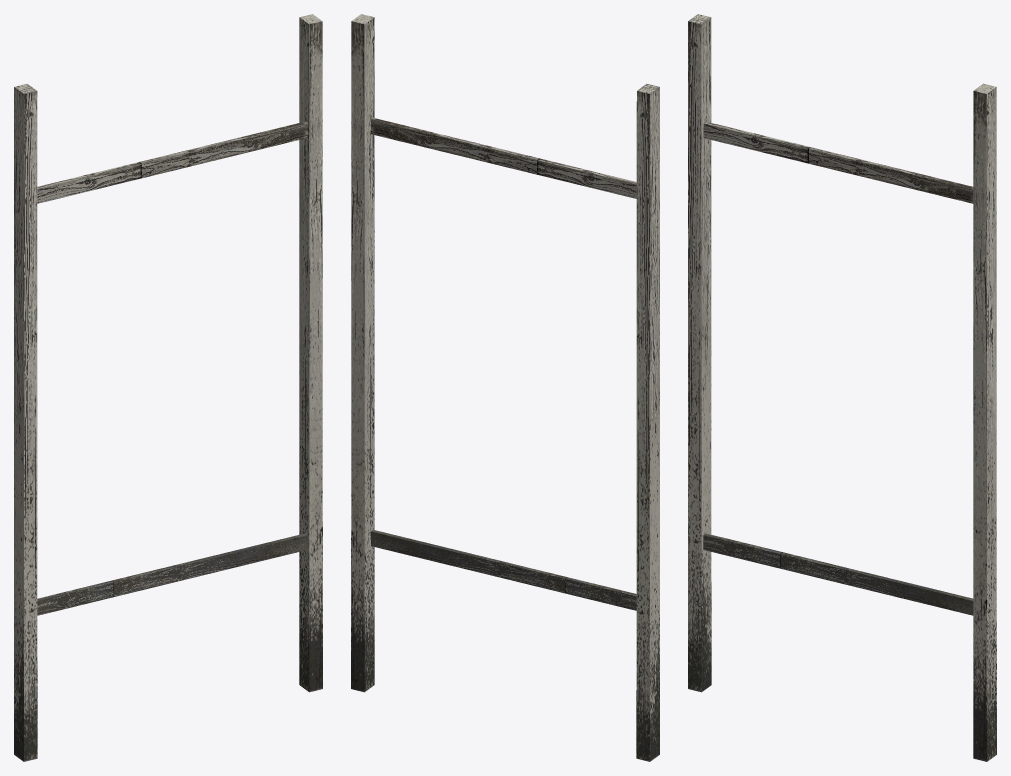
The model's file is wood_fence02a_board01a.glb.
3 renders of one model, left to right at view 1: azimuth 30°, elevation 25°; view 2: azimuth 150°, elevation 25°; view 3: azimuth 330°, elevation 25°, orthographic.
Parts seen in each view (by area): view 1: wood_fence02a_board01a; view 2: wood_fence02a_board01a; view 3: wood_fence02a_board01a.
Part boxes in pixels (x1=…): wood_fence02a_board01a: x1=14, y1=14, x2=322, y2=761; wood_fence02a_board01a: x1=351, y1=14, x2=659, y2=761; wood_fence02a_board01a: x1=688, y1=14, x2=996, y2=761.
Bounding box in the file's own units: 1.22 × 2.6 × 0.0695.
Materials: 1 (1 with a texture image).
